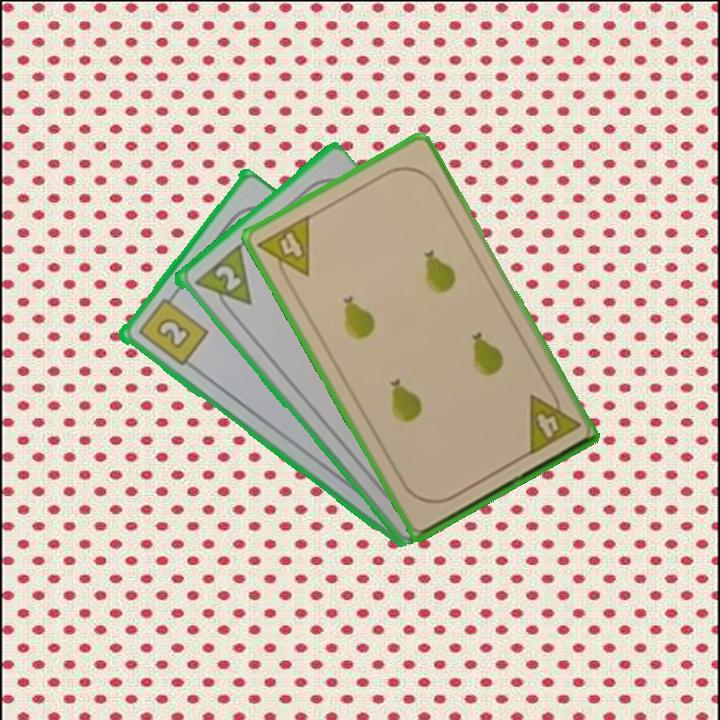2b: (134, 288, 210, 369)
2p: (190, 242, 255, 321)
4p: (254, 211, 313, 289), (524, 383, 583, 458)
